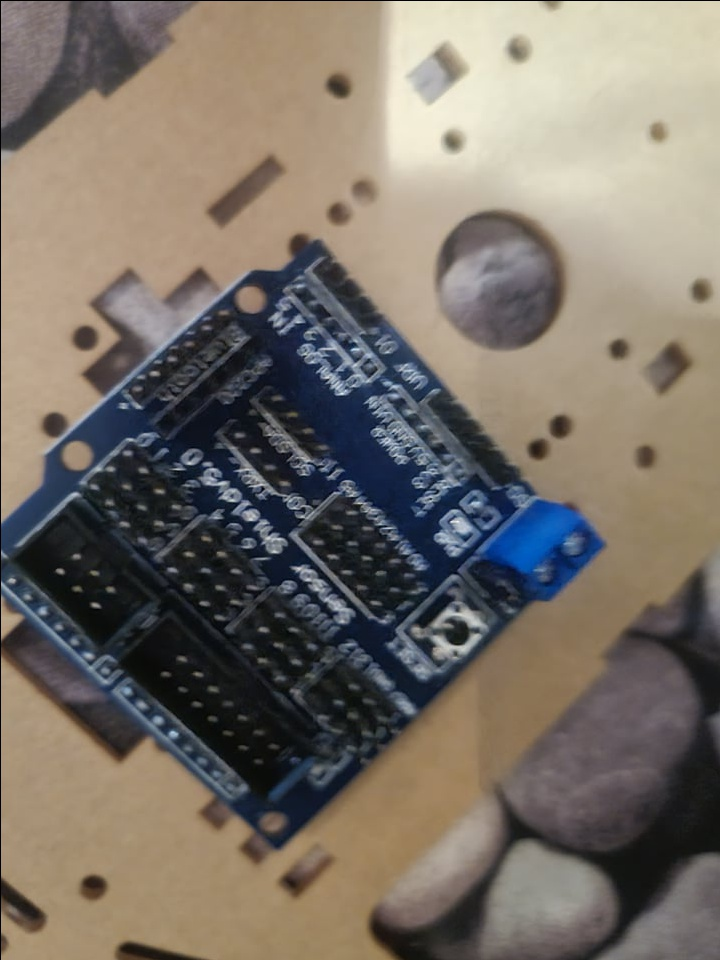5V EXPANSION: (0, 238, 610, 847)
